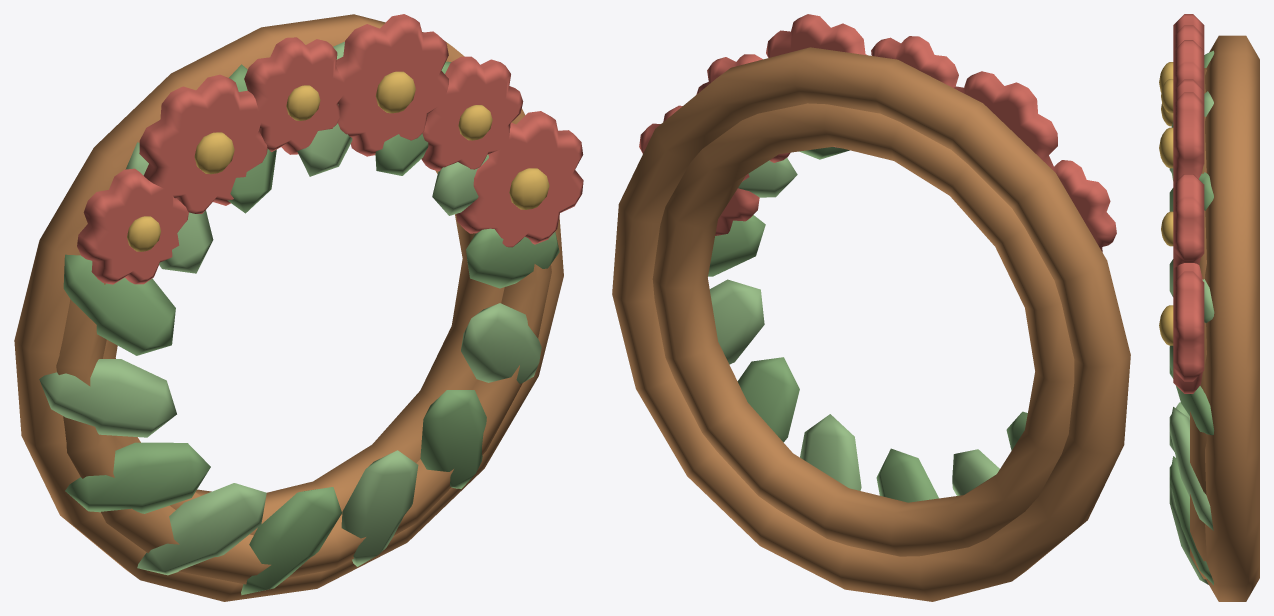
Rendered from chic_cosmos_wreath.glb.
The picture shows the model from 3 angles, left to right: view 1: azimuth 30°, elevation 25°; view 2: azimuth 150°, elevation 25°; view 3: azimuth 270°, elevation 25°; orthographic projection. The views are drawn at different scales.
Parts seen in each view (by area): view 1: chic_cosmos_wreath_mesh; view 2: chic_cosmos_wreath_mesh; view 3: chic_cosmos_wreath_mesh.
Part boxes in pixels (x1,y1,x2,y2): chic_cosmos_wreath_mesh: (14,14,583,601); chic_cosmos_wreath_mesh: (612,14,1130,601); chic_cosmos_wreath_mesh: (1159,14,1259,601).
Size of the model in its own units: 0.4526 by 0.4622 by 0.0809.
